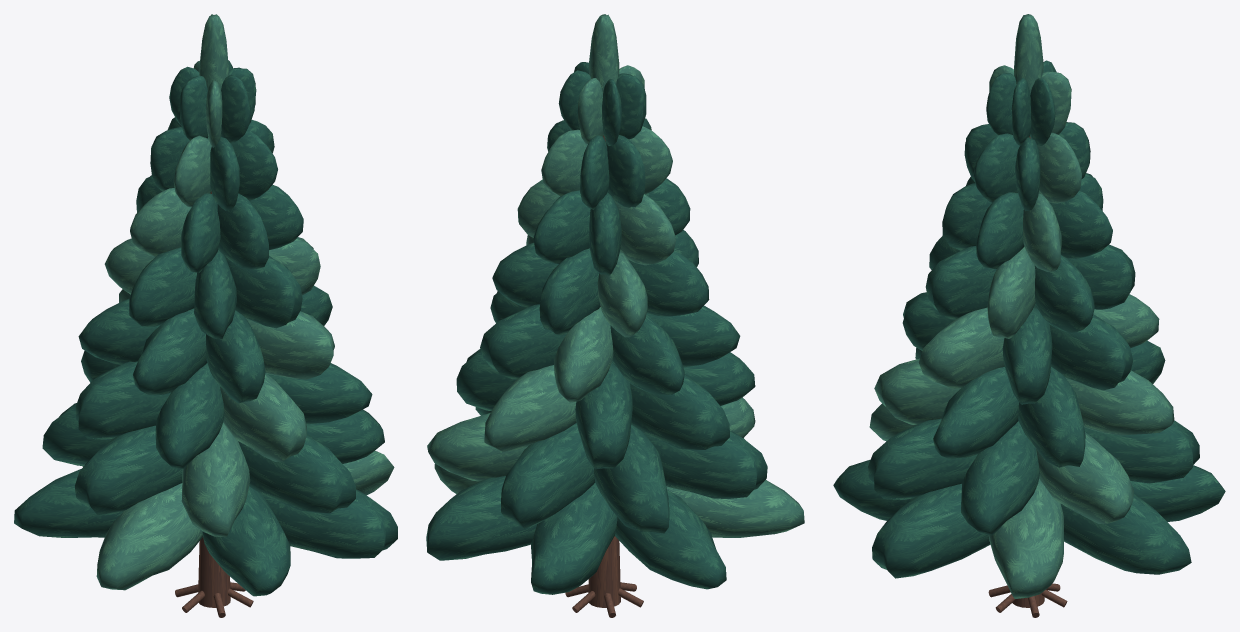
Rendered from tree_1.glb.
3 views of the same model, side by side, from view 1: azimuth 30°, elevation 25°; view 2: azimuth 150°, elevation 25°; view 3: azimuth 270°, elevation 25° (orthographic).
Parts seen in each view (by area): view 1: tree_1; view 2: tree_1; view 3: tree_1.
Boxes of the visible parts, box(x1,y1,x2,y2) form: tree_1: box(14, 14, 397, 617); tree_1: box(426, 14, 804, 617); tree_1: box(833, 14, 1225, 617).
Bounding box in the file's own units: 5.07 × 8.62 × 5.23.
Materials: 1 (1 with a texture image).
